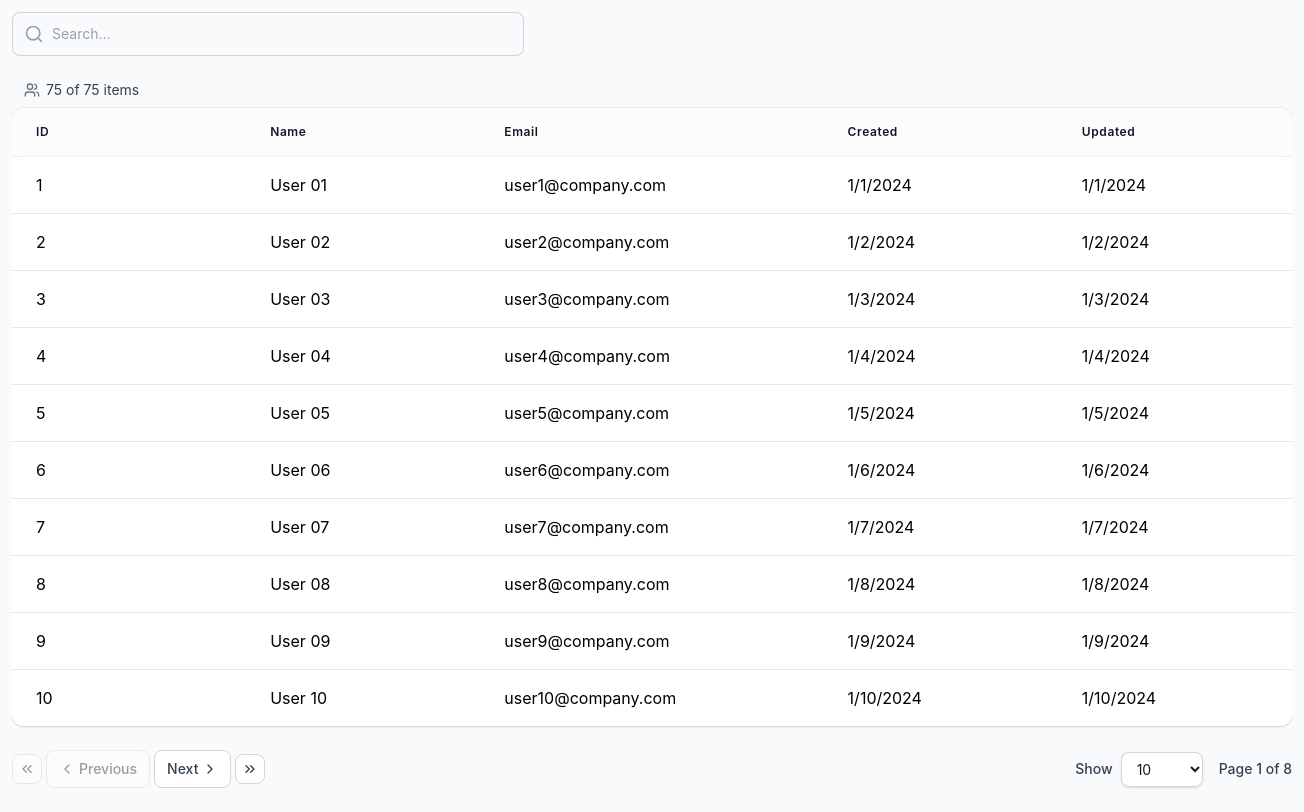
GenericDataTable Integration Tests › Pagination Functionality › handles pagination with filtered results
This screenshot has width=1304, height=812.
# Filter by "User 1" (10 results: User 10-19)
Type "User 1" into the field with placeholder "Search...". click: {"x": 268, "y": 34}
box: 12,12 -> 524,56
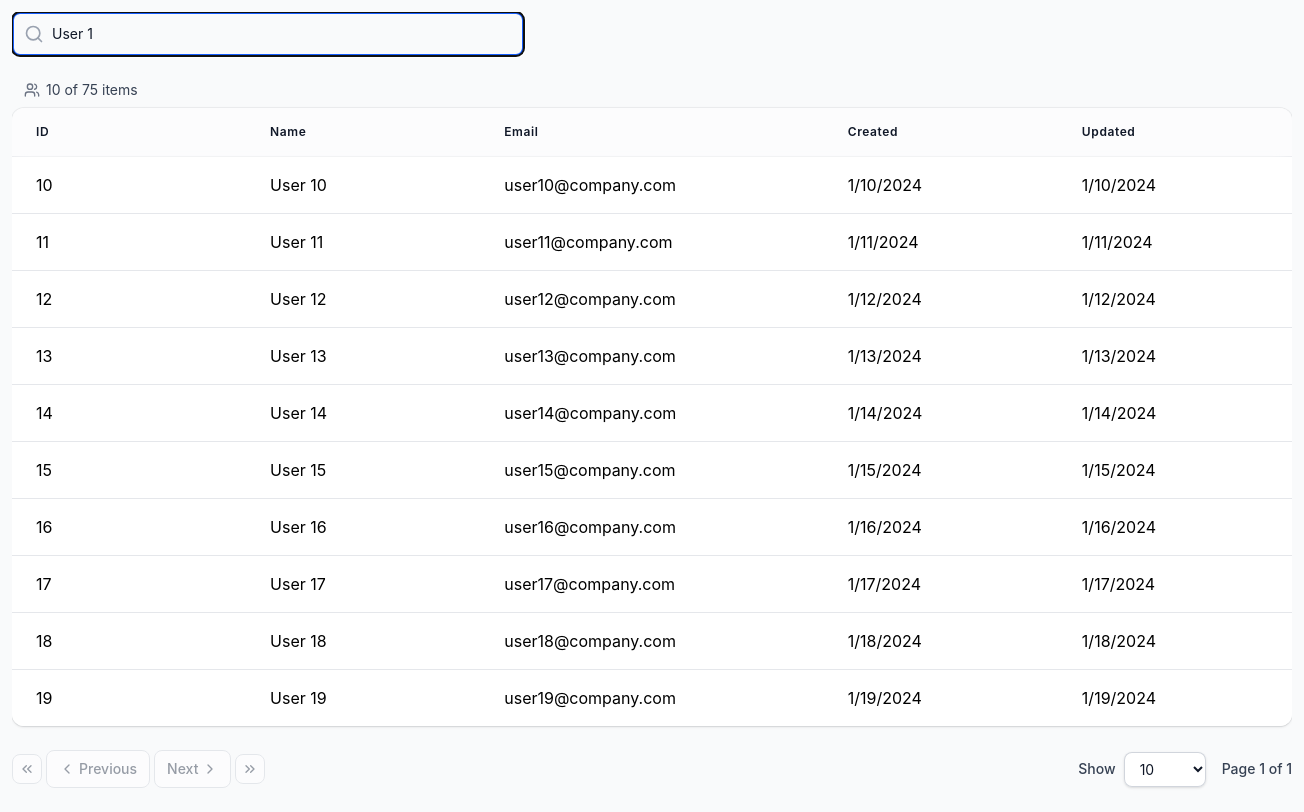
Expected: the text "User 10" is shown, 246,156 -> 480,214
Expected: the text "Page 1 of 1" is shown, 1222,760 -> 1292,777
Expected: the text "User 19" is shown, 246,670 -> 480,726
